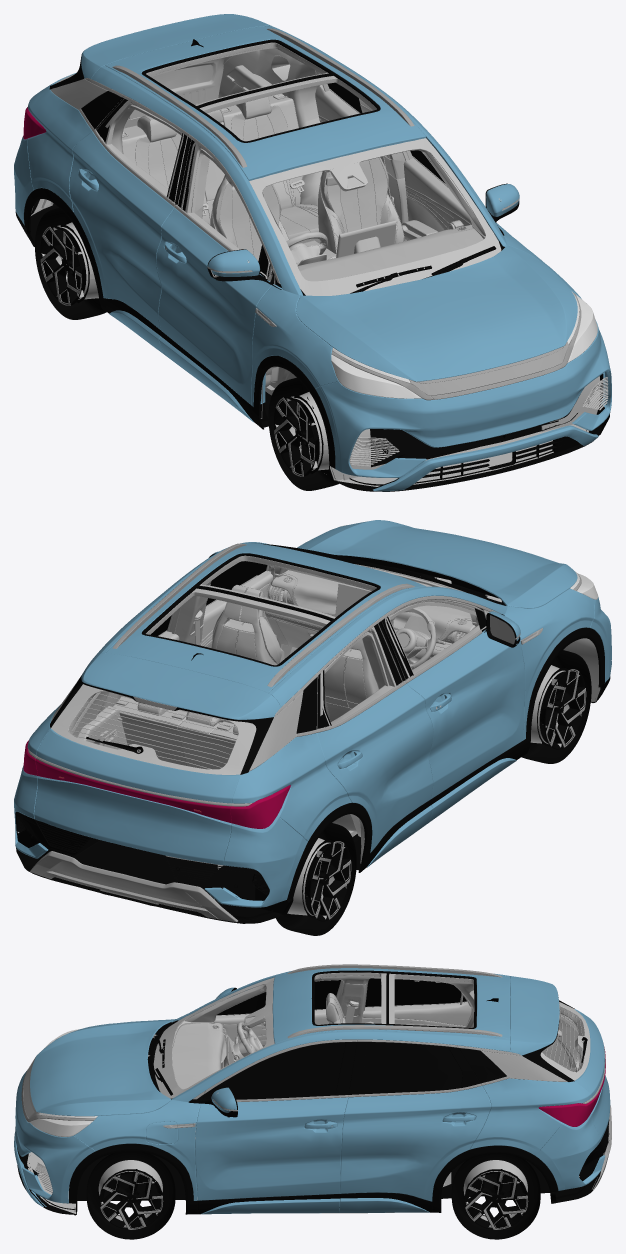
File: atto.glb
The picture shows the model from 3 angles, top to bottom: view 1: azimuth 30°, elevation 25°; view 2: azimuth 150°, elevation 25°; view 3: azimuth 270°, elevation 25°; orthographic projection. The views are drawn at different scales.
Parts seen in each view (by area): view 1: Object_5, Object_4, Object_6; view 2: Object_5, Object_4, Object_6; view 3: Object_6, Object_4, Object_5.
Boxes of the visible parts, box(x1,y1,x2,y2) form: Object_5: box(24, 26, 600, 489); Object_4: box(15, 14, 611, 491); Object_6: box(14, 25, 608, 468); Object_5: box(51, 520, 600, 900); Object_4: box(14, 543, 611, 935); Object_6: box(15, 525, 604, 907); Object_6: box(24, 964, 608, 1215); Object_4: box(14, 970, 611, 1239); Object_5: box(17, 968, 590, 1214).
Bounding box in the file's own units: 0.0815 × 0.0629 × 0.1752.
